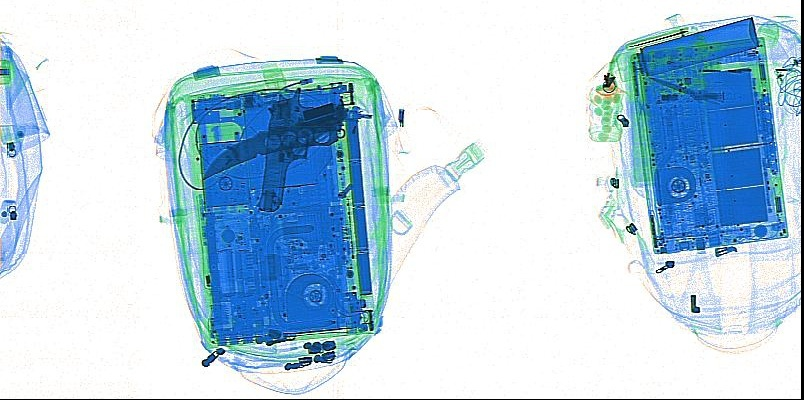knife: (201, 118, 347, 181), (623, 25, 691, 49)
pressure: (616, 16, 759, 82)
scissors: (645, 75, 724, 105)
